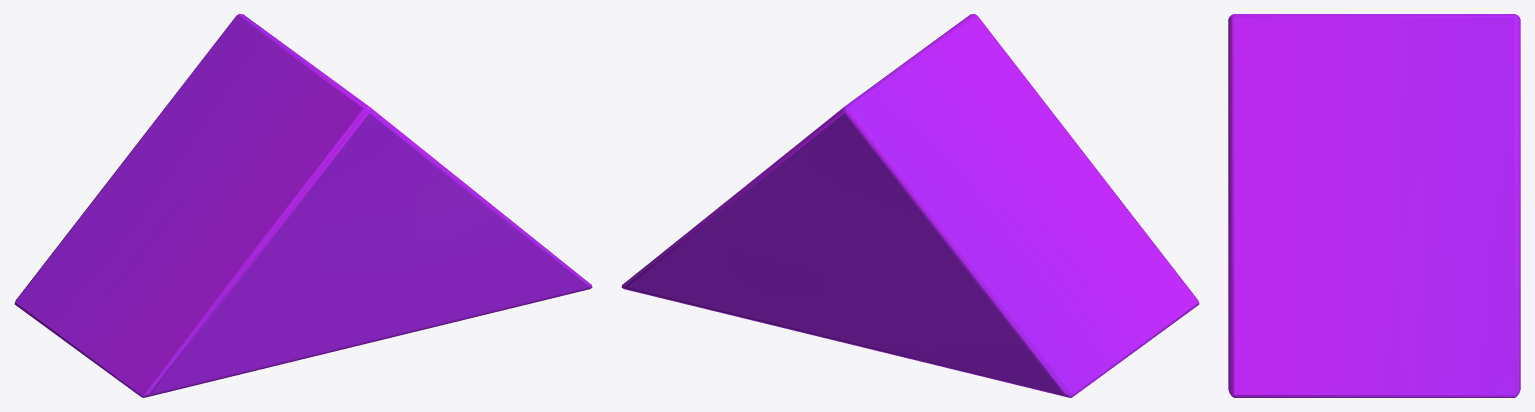
Rendered from 2SidedWedgePink.fbx.
3 views of the same model, side by side, from view 1: azimuth 30°, elevation 25°; view 2: azimuth 150°, elevation 25°; view 3: azimuth 270°, elevation 25° (orthographic). The views are drawn at different scales.
Parts seen in each view (by area): view 1: Wedge.001; view 2: Wedge.001; view 3: Wedge.001.
Part boxes in pixels (bbox=[...]): Wedge.001: bbox=[14, 14, 592, 397]; Wedge.001: bbox=[621, 14, 1199, 397]; Wedge.001: bbox=[1228, 14, 1520, 397].
Bounding box in the file's own units: 3.95 × 1.98 × 2.
